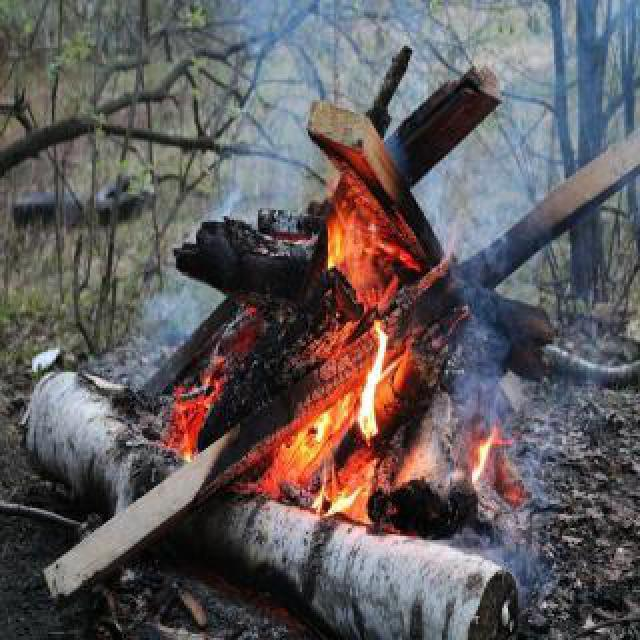fire: (352, 324, 406, 466), (292, 442, 358, 544), (466, 420, 506, 504)
smoke: (438, 230, 636, 620), (110, 160, 242, 394)
